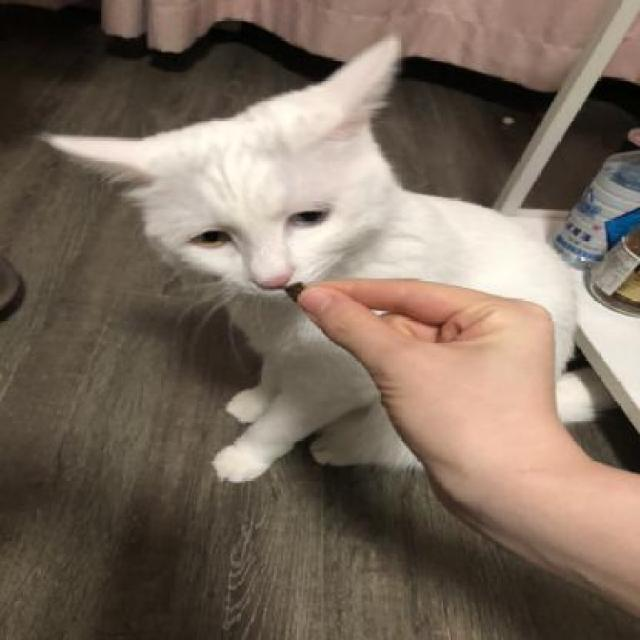cat-face: (27, 21, 421, 302)
